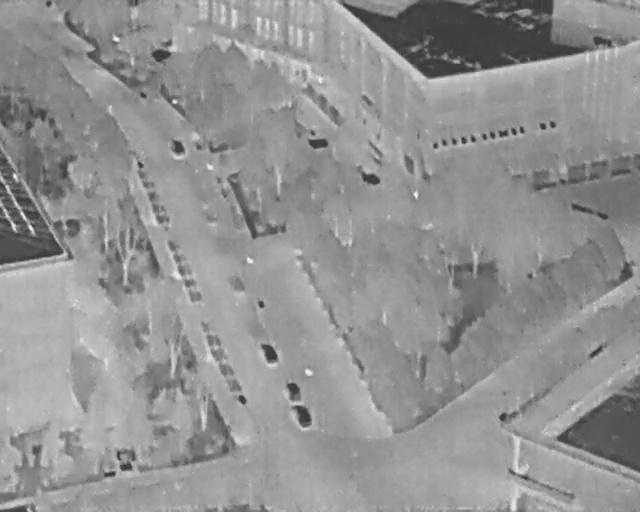Car: (292, 402, 314, 430), (258, 339, 279, 366), (168, 135, 187, 159), (283, 379, 302, 403)
